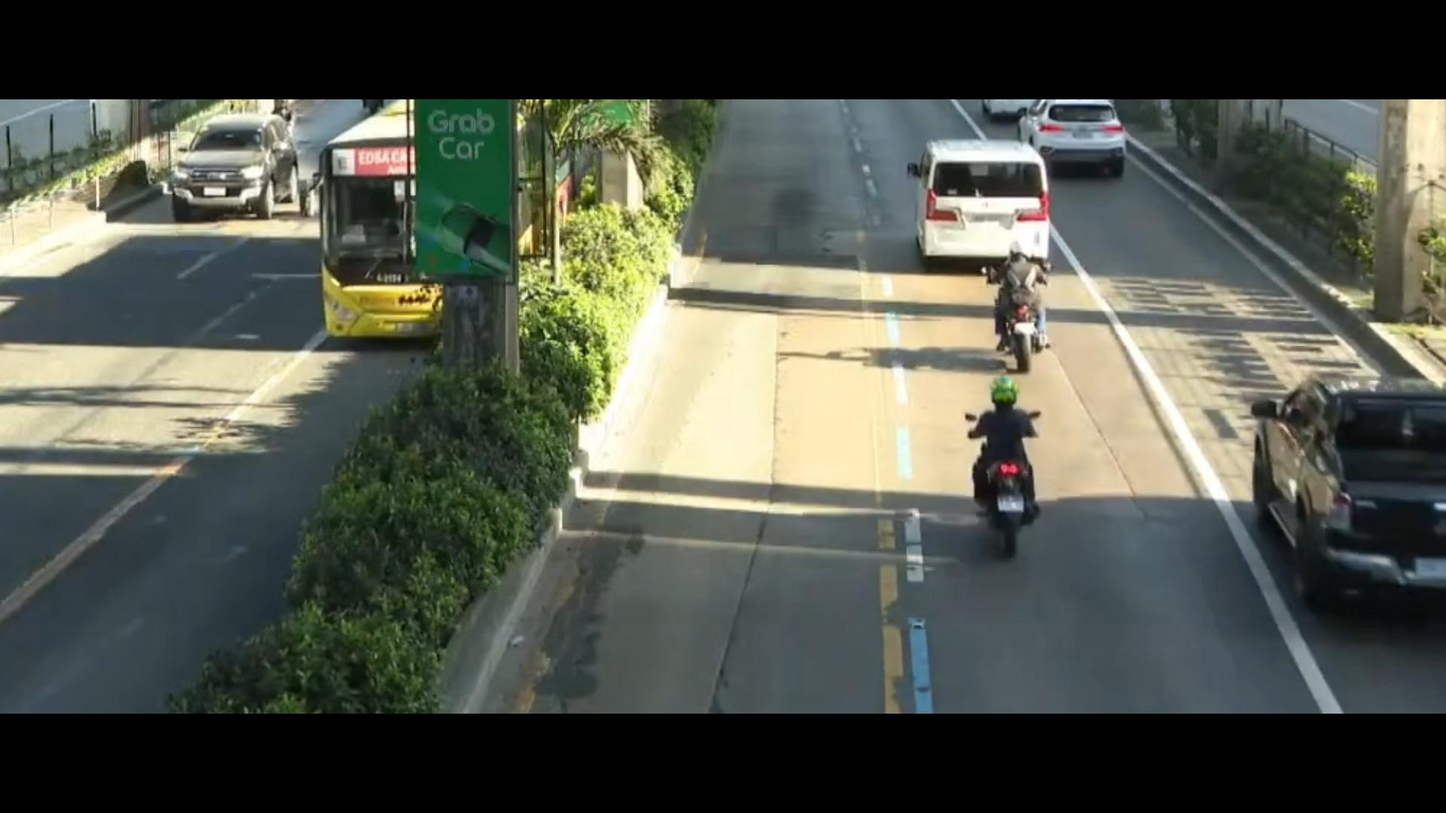Bus: (313, 102, 448, 365)
Motorcycle: (964, 377, 1048, 565), (947, 245, 1058, 374)
Pickup: (1228, 362, 1446, 687)
SUV: (158, 121, 294, 223), (1022, 94, 1139, 167)
Van: (878, 130, 1058, 271)
